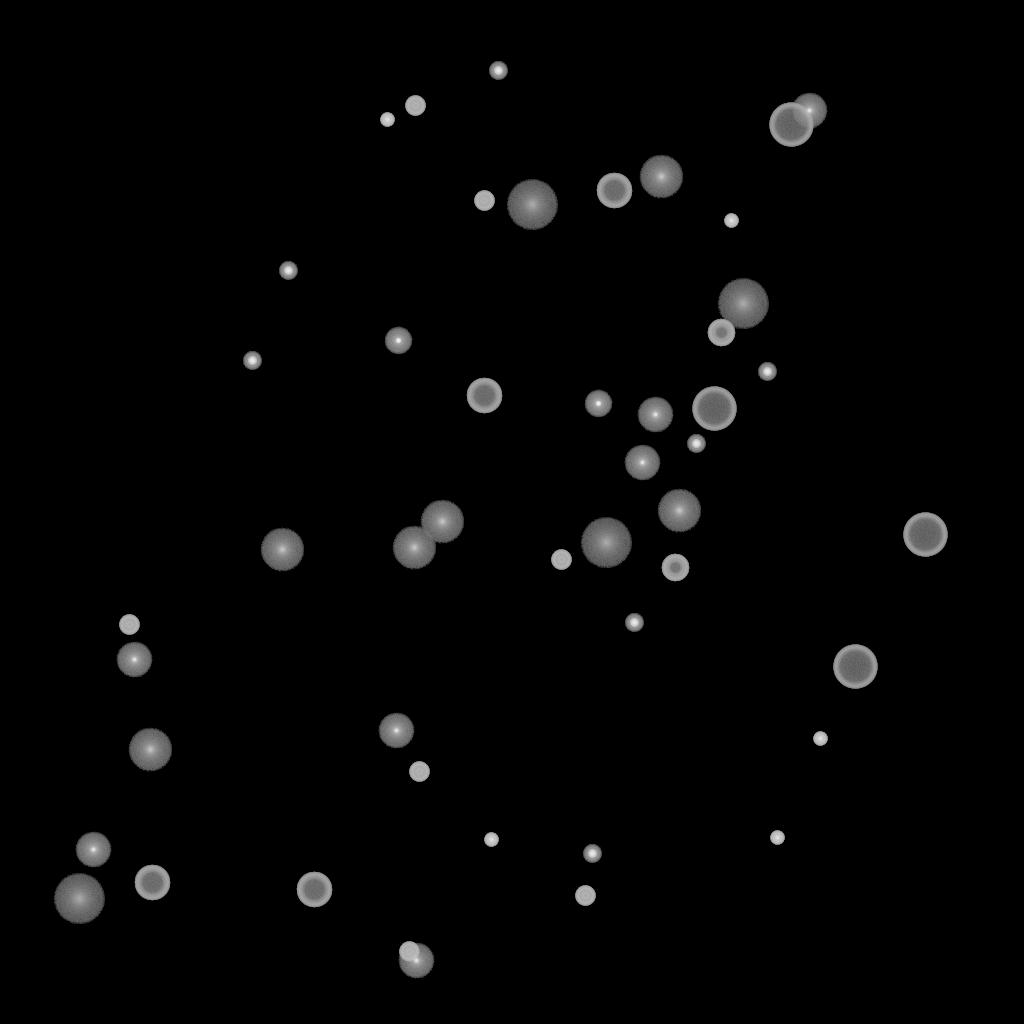depth:-10: (384, 327, 412, 355), (584, 390, 612, 418)
depth:-20: (243, 352, 261, 370), (583, 845, 601, 863), (758, 363, 776, 381), (279, 262, 297, 280), (625, 614, 643, 632), (687, 435, 705, 453), (489, 62, 507, 80)
depth:-30: (724, 214, 738, 228), (484, 833, 498, 847), (380, 113, 394, 127), (813, 732, 827, 746), (770, 831, 784, 845)
depth:-40: (409, 762, 429, 782), (119, 615, 139, 635), (551, 550, 571, 570), (399, 942, 419, 962), (474, 191, 494, 211), (405, 96, 425, 116), (575, 886, 595, 906)
depth:-50: (661, 554, 689, 582), (707, 319, 735, 347)
depth:-60: (296, 872, 332, 908), (134, 865, 170, 901), (466, 378, 502, 414), (596, 173, 632, 209)
depth:-70: (903, 513, 947, 557), (692, 387, 736, 431), (769, 103, 813, 147), (833, 645, 877, 689)
depth:0: (791, 93, 827, 129), (637, 397, 673, 433), (398, 943, 434, 979), (378, 713, 414, 749), (75, 832, 111, 868), (116, 642, 152, 678), (624, 445, 660, 481)
depth:10: (392, 526, 436, 570), (260, 528, 304, 572), (128, 728, 172, 772), (420, 500, 464, 544), (657, 489, 701, 533), (639, 155, 683, 199)
depth:20: (717, 279, 769, 329), (506, 180, 558, 230), (580, 518, 632, 568), (53, 874, 105, 924)
